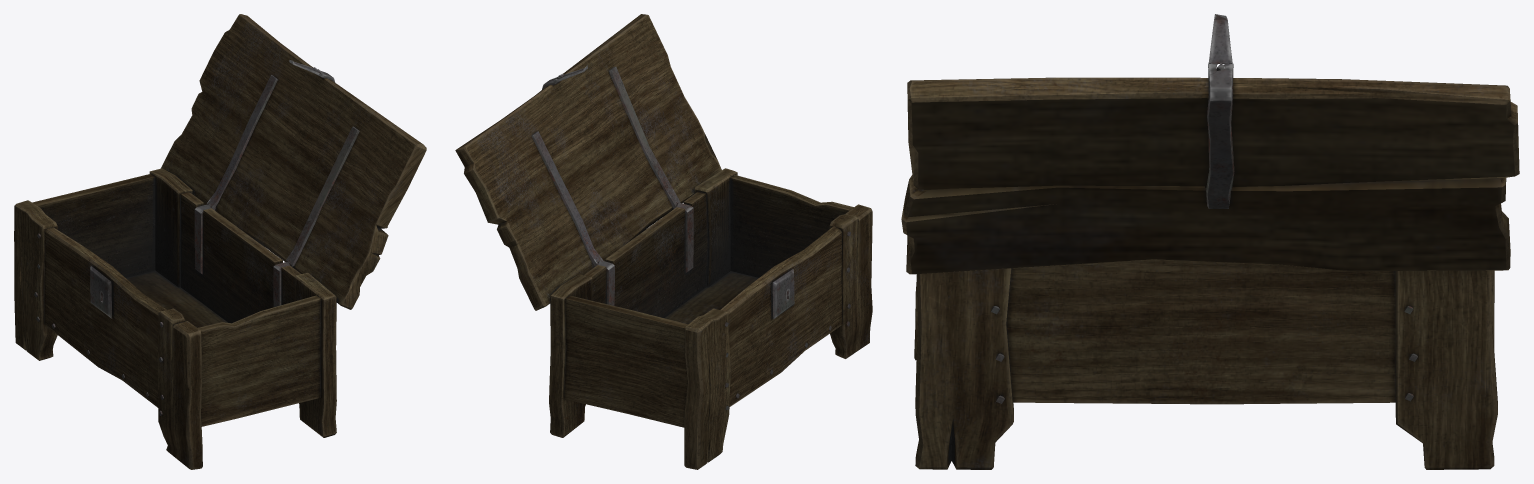
Rendered from SM_Wooden_Box_A.fbx.
3 renders of one model, left to right at view 1: azimuth 30°, elevation 25°; view 2: azimuth 150°, elevation 25°; view 3: azimuth 270°, elevation 25°, orthographic. The views are drawn at different scales.
Visible parts, largest first — view 1: SM_Wooden_Box_A_LOD0; view 2: SM_Wooden_Box_A_LOD0; view 3: SM_Wooden_Box_A_LOD0.
Boxes of the visible parts, x1,y1,x2,y2 form: SM_Wooden_Box_A_LOD0: (14, 14, 426, 469); SM_Wooden_Box_A_LOD0: (455, 14, 872, 469); SM_Wooden_Box_A_LOD0: (901, 14, 1519, 469).
Bounding box in the file's own units: 104 × 139 × 122.
1 material, 1 textured.
